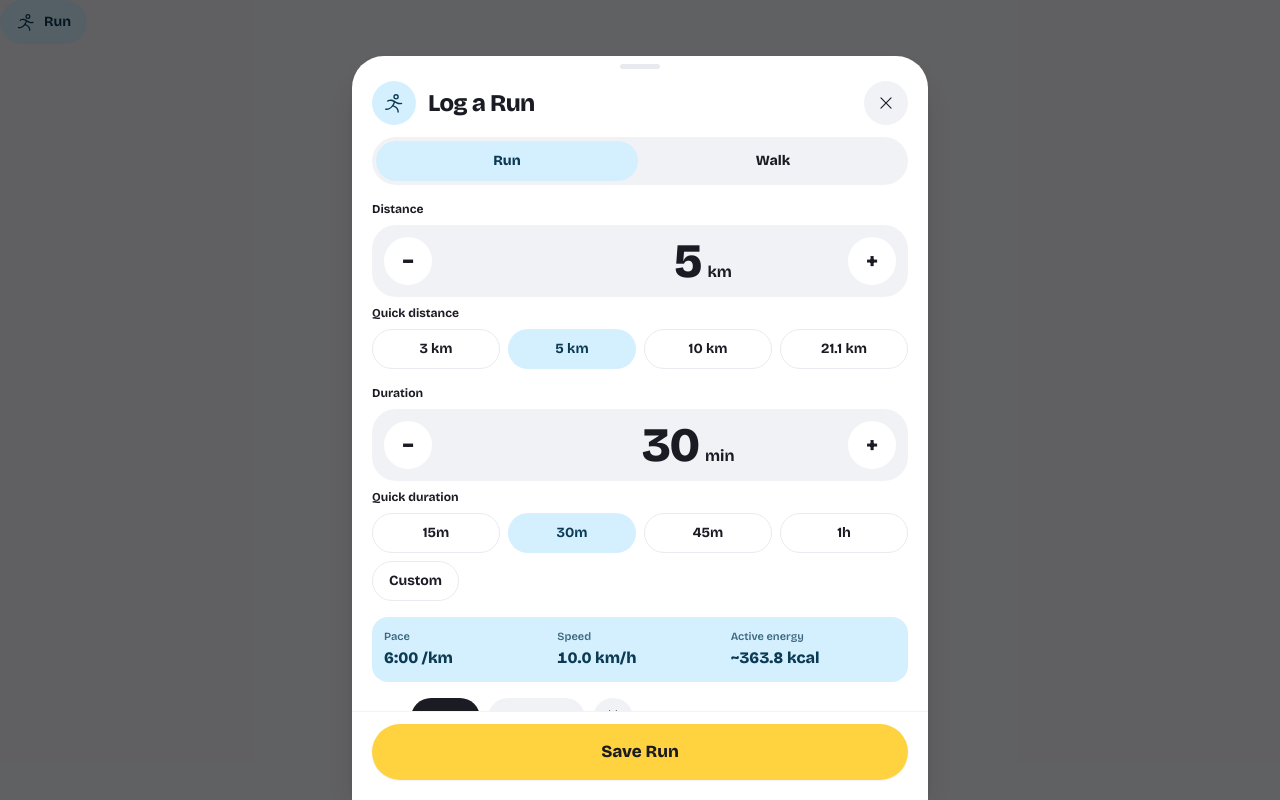
Test case: RunLogger › closes the requested run sheet from the backdrop
Click the element with class "inset-0": coordinates (77, 400) [0,0,1279,799]
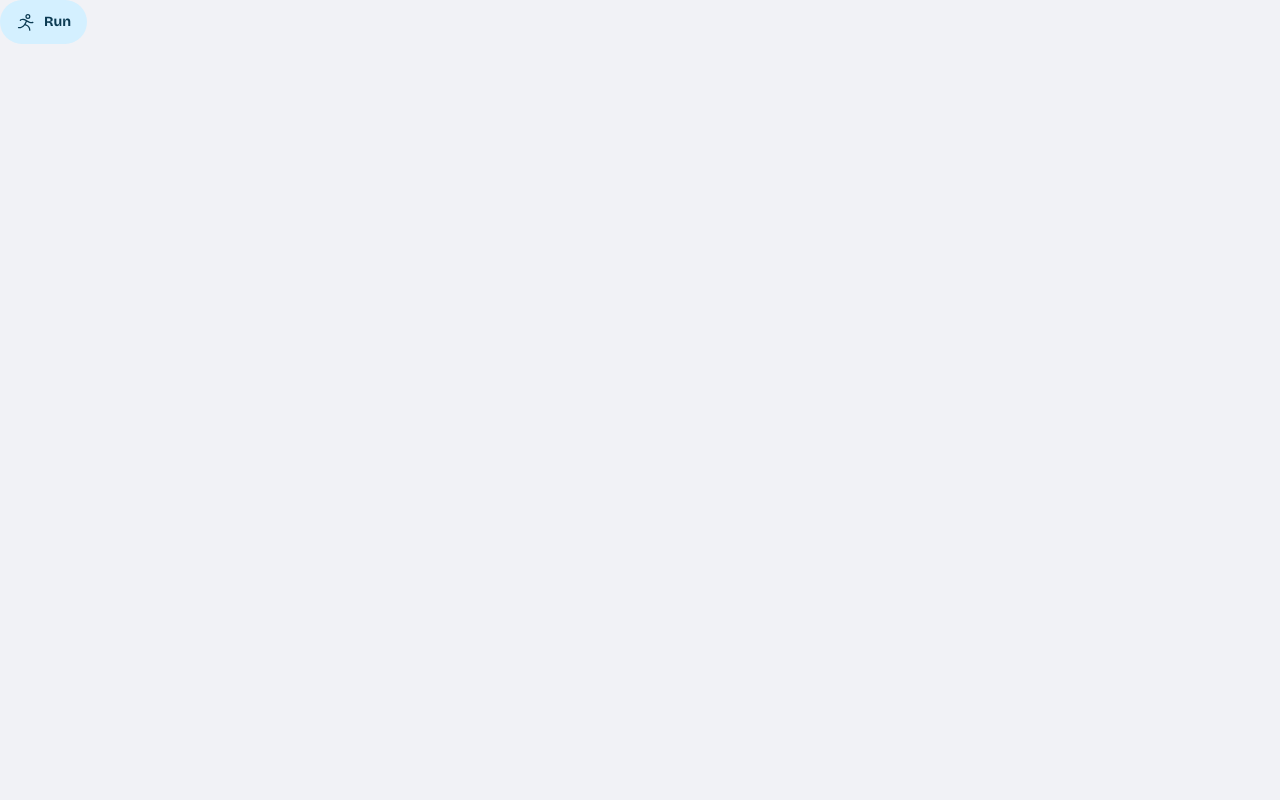
Expected: the heading "Log a Run" is gone
